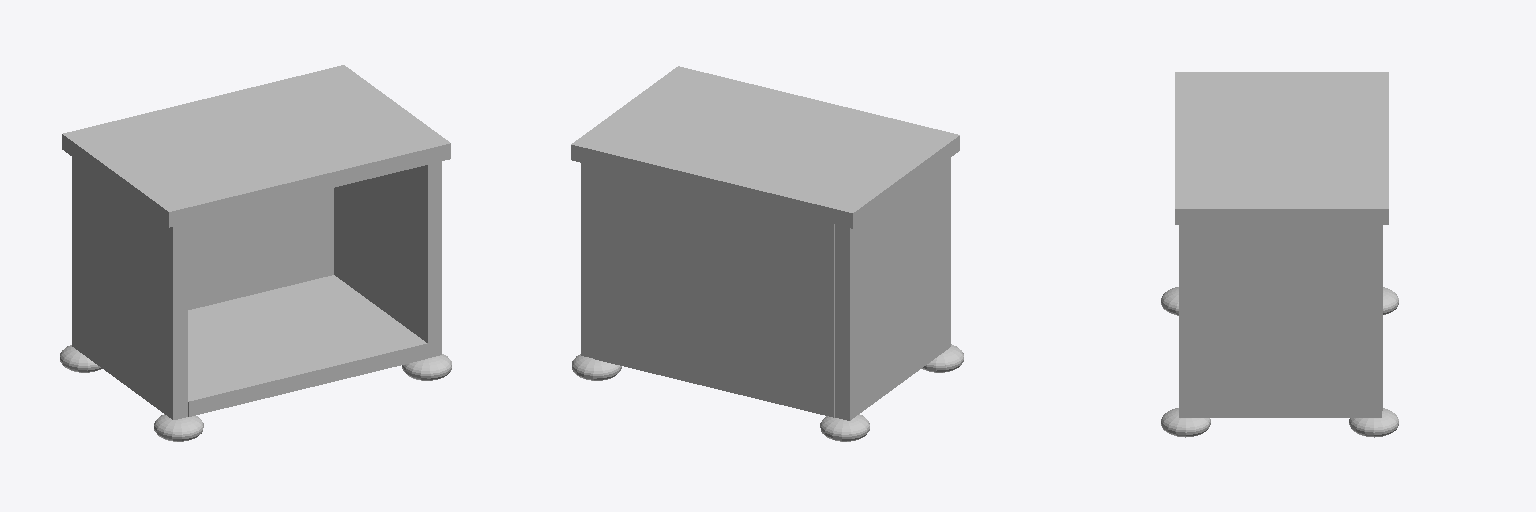
File: drawer_obj3.obj
3 renders of one model, left to right at view 1: azimuth 30°, elevation 25°; view 2: azimuth 150°, elevation 25°; view 3: azimuth 270°, elevation 25°, orthographic.
Visible parts, largest first — view 1: drawer; view 2: drawer; view 3: drawer.
Part boxes in pixels (left/top/right/bottom): drawer: left=60, top=65, right=451, bottom=441; drawer: left=571, top=66, right=963, bottom=441; drawer: left=1161, top=72, right=1398, bottom=437.
Bounding box in the file's own units: 0.8743 × 0.6663 × 0.6192.